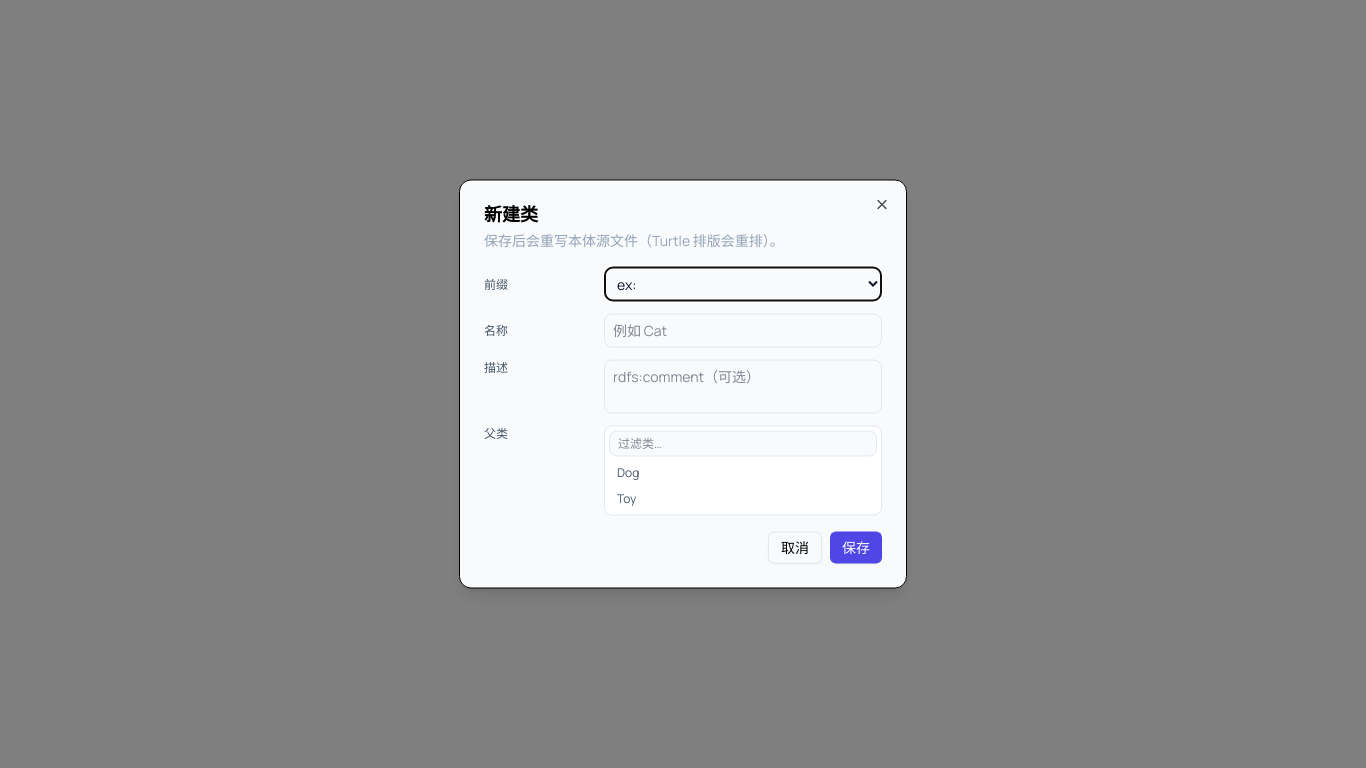
Test case: EntityDialogs › shows an inline duplicate-name error
In the field named "名称": [743, 330] box 604,314 -> 882,348, type "Dog"
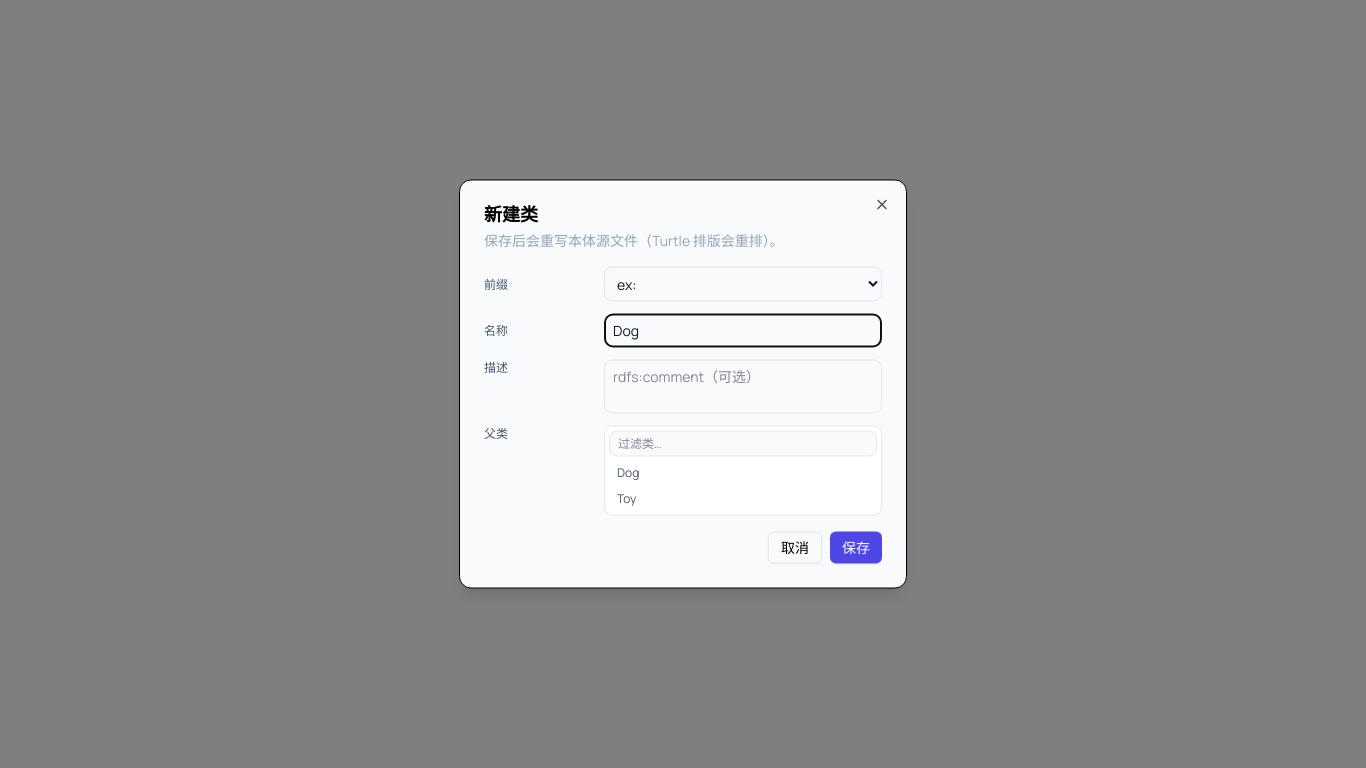
Click the button "保存": [856, 548] box 830,532 -> 882,564
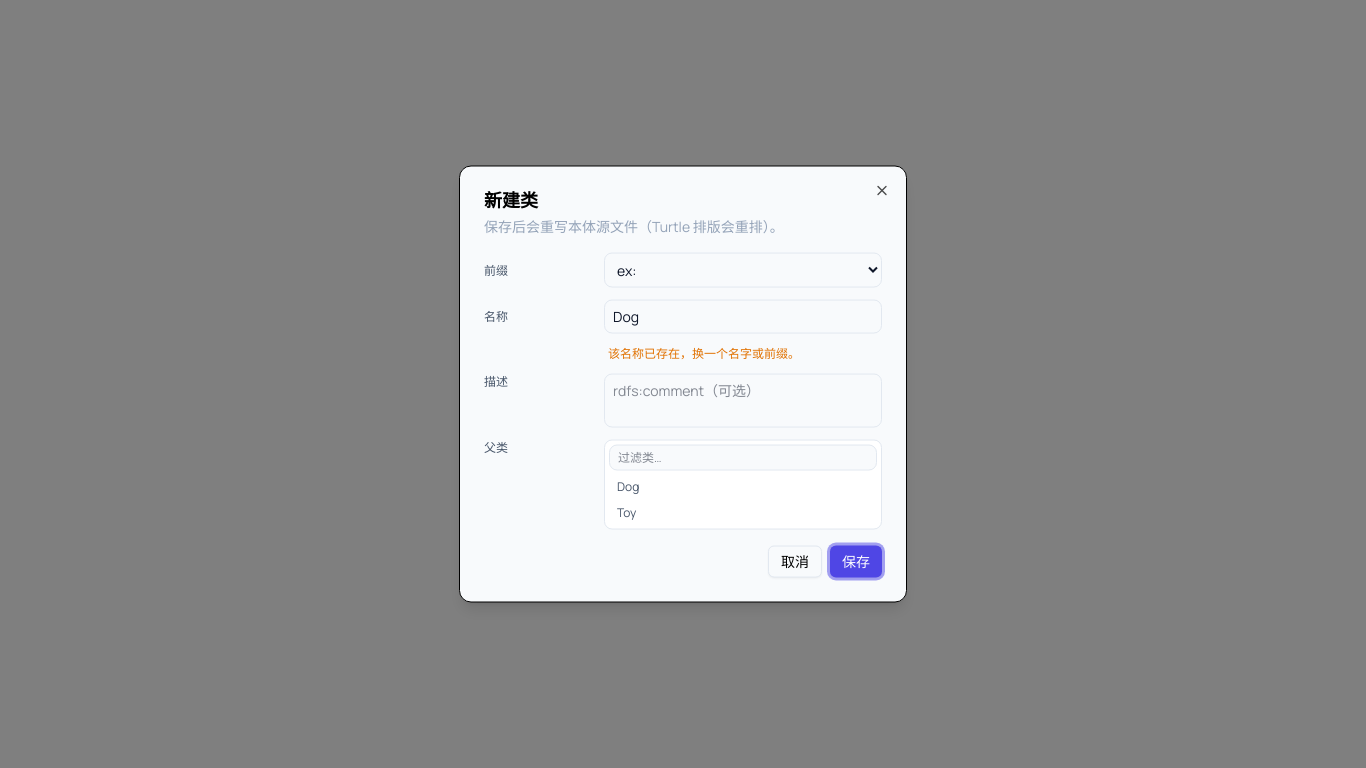
Expected: the message "该名称已存在，换一个名字或前缀。" is shown, 608,344 -> 800,362
